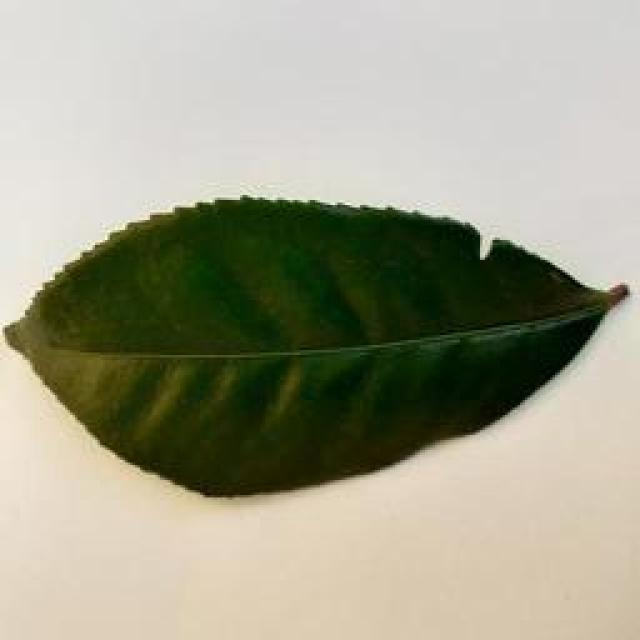Healthy: (2, 193, 633, 492)
